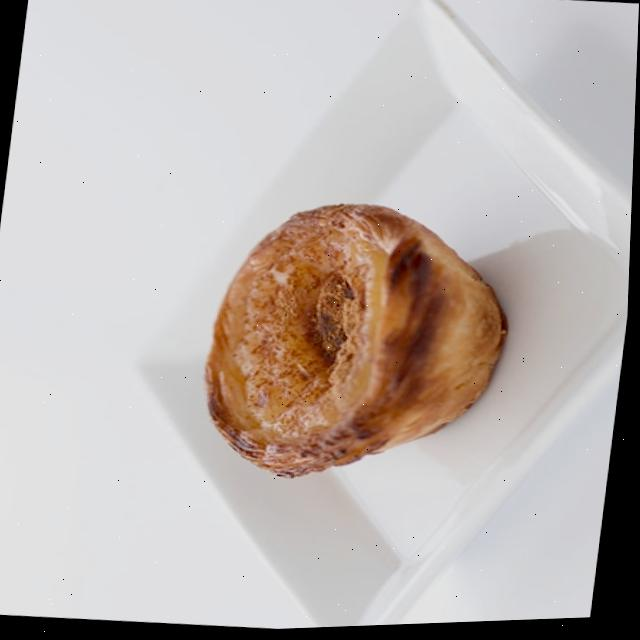炸货点心: (92, 0, 640, 637)
蛋糕甜品: (92, 0, 640, 637)
